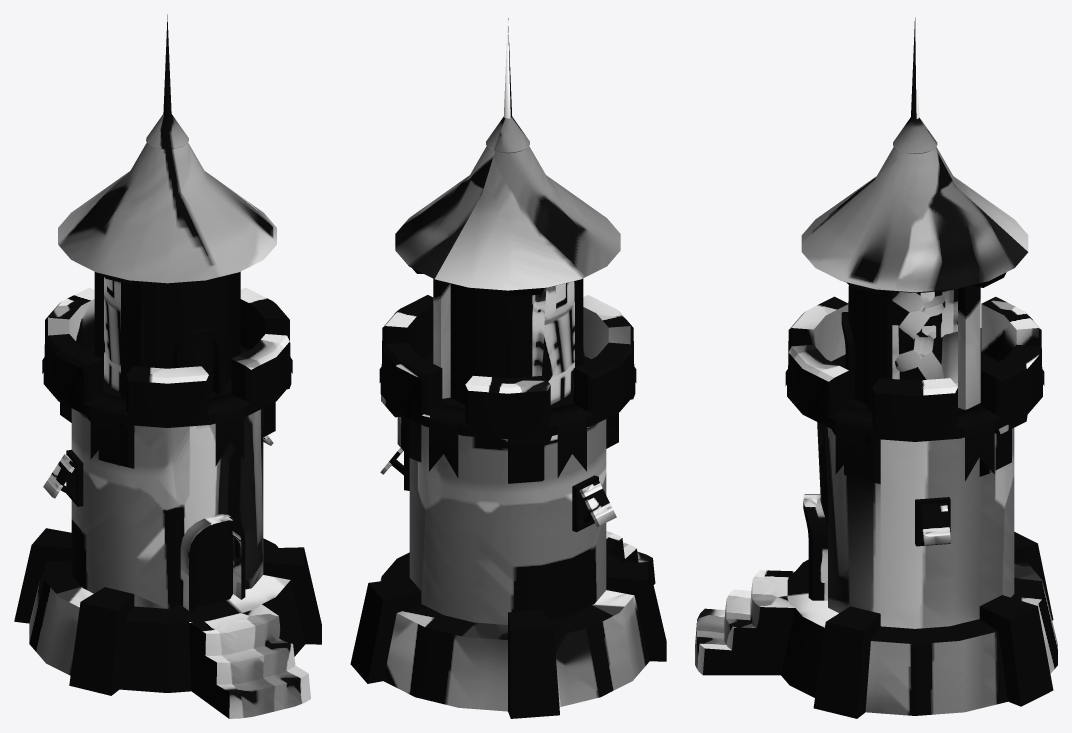
File: UV_Tower.fbx
3 views of the same model, side by side, from view 1: azimuth 30°, elevation 25°; view 2: azimuth 150°, elevation 25°; view 3: azimuth 270°, elevation 25° (orthographic). The views are drawn at different scales.
Parts seen in each view (by area): view 1: Tower_UV; view 2: Tower_UV; view 3: Tower_UV.
Boxes of the visible parts, x1,y1,x2,y2 form: Tower_UV: [14, 14, 321, 718]; Tower_UV: [350, 18, 666, 718]; Tower_UV: [695, 15, 1057, 718].
Size of the model in its own units: 35274 by 82785 by 42434.
